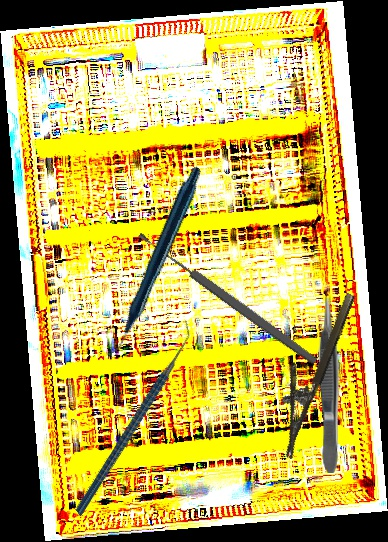Chopper: (25, 319, 240, 516)
Handpiece: (46, 165, 258, 357)
Needle Holder: (258, 283, 358, 460)
Surgical Spoon: (136, 229, 319, 367)
Tissue Forceps: (318, 295, 340, 473)
